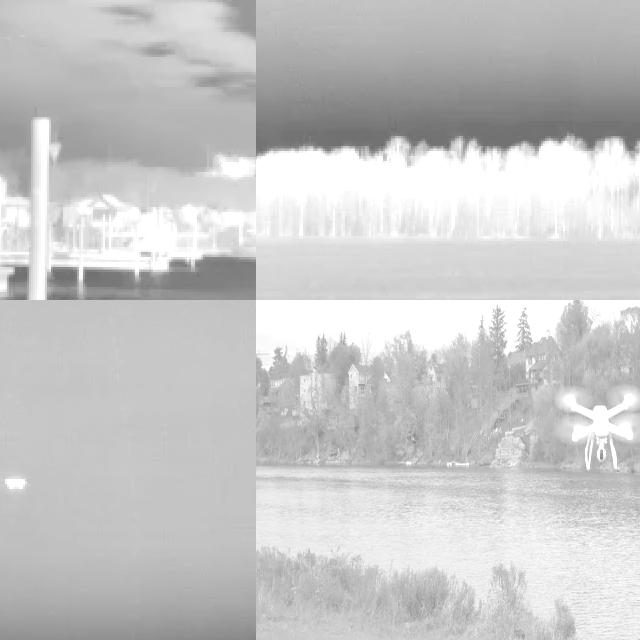1: (0, 468, 40, 501)
drone: (567, 384, 640, 474)
